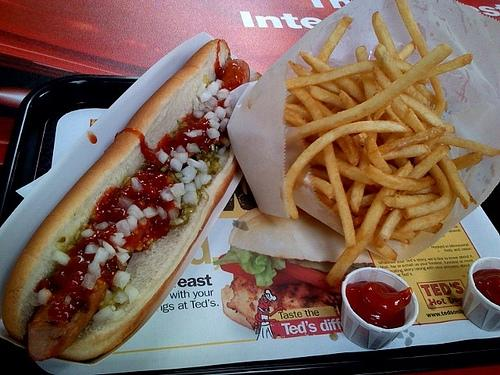onion: (50, 250, 72, 266), (126, 204, 146, 221), (112, 270, 130, 288), (196, 83, 212, 103), (115, 218, 131, 238), (93, 247, 109, 266), (116, 245, 130, 266), (194, 174, 212, 189), (125, 216, 138, 236), (181, 166, 197, 180), (212, 106, 226, 121), (216, 88, 230, 103), (160, 189, 175, 202), (206, 127, 220, 140), (208, 81, 220, 95), (174, 182, 184, 196), (84, 244, 99, 253), (187, 158, 200, 168), (192, 110, 204, 119)
